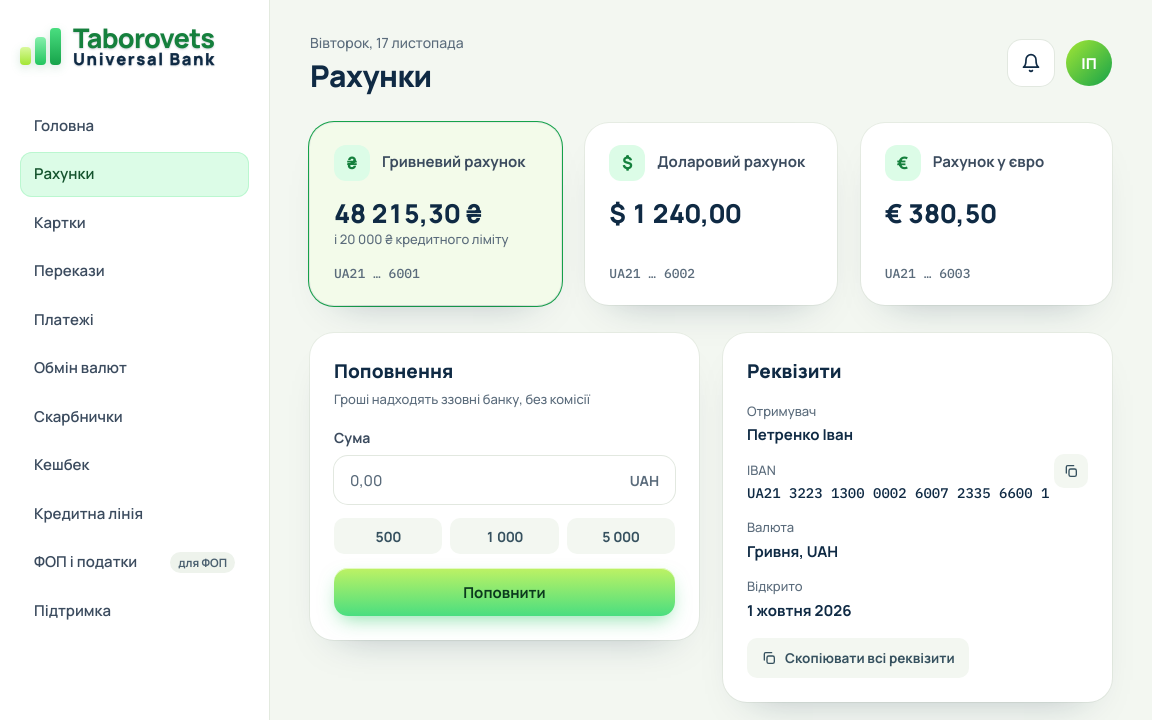
Test: AccountsPage › explains a wrong amount before asking the bank
In the field labelled "Сума": (504, 480) [334, 456, 675, 504], type "200000"
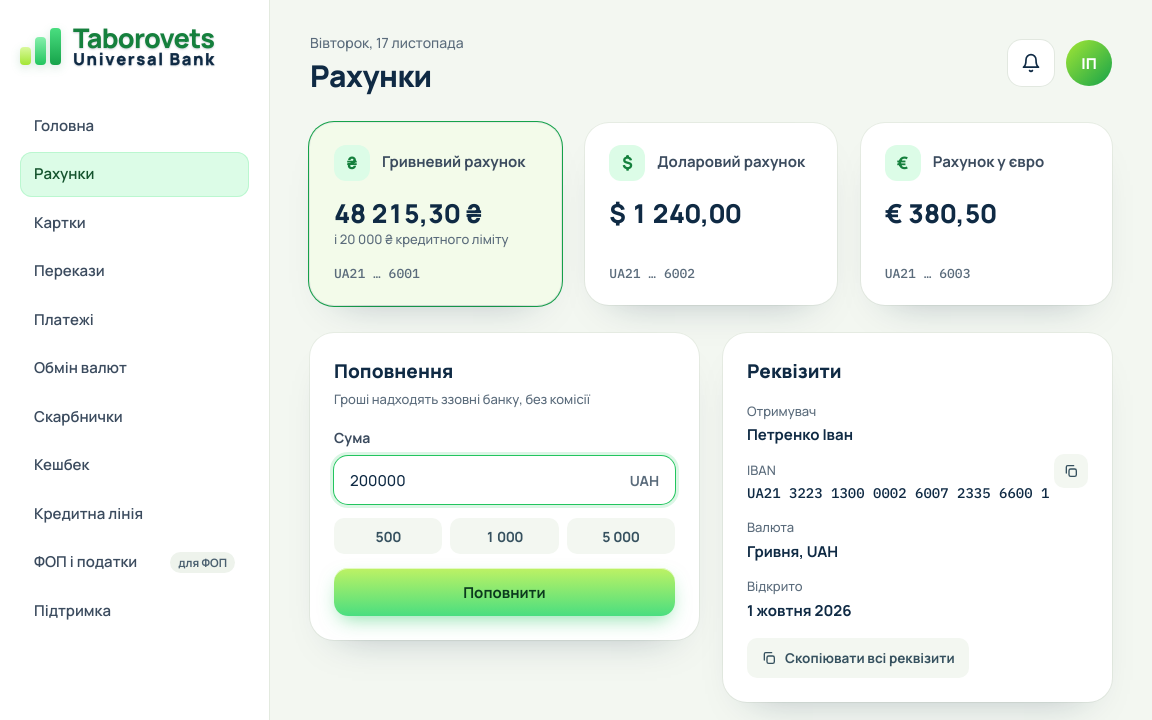
Click the button "Поповнити": (504, 592) [334, 568, 675, 616]
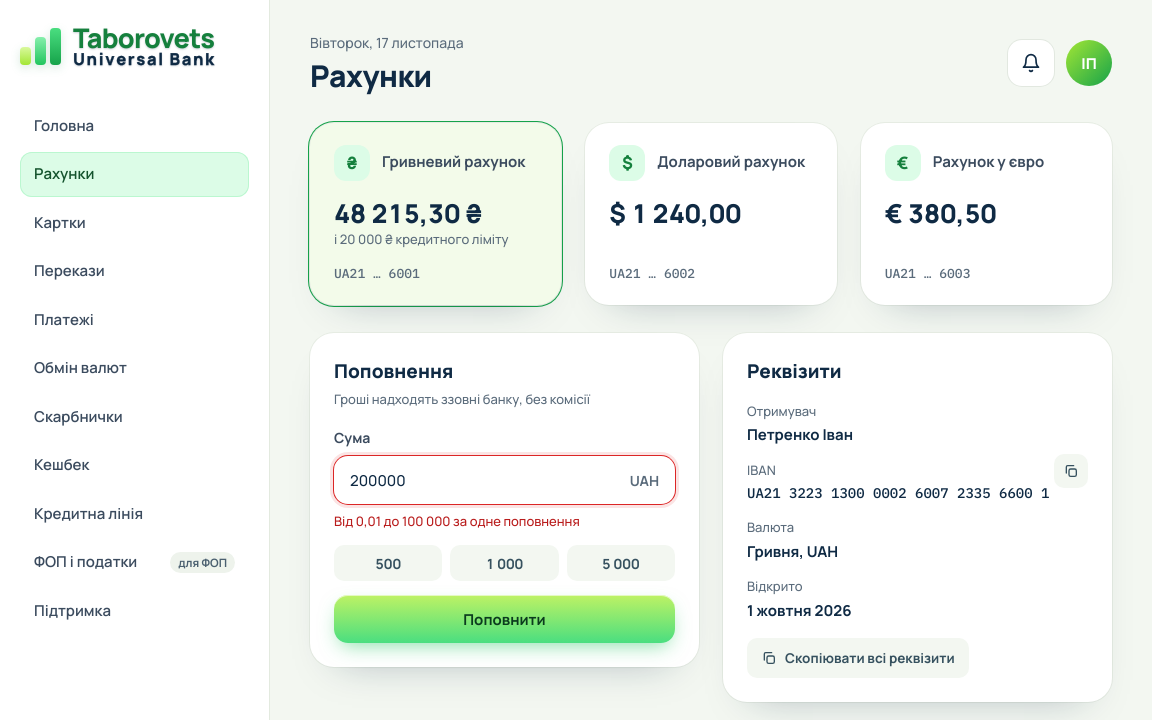
Result: the text "Від 0,01 до 100 000 за одне поповнення" is shown at [334, 512, 580, 530]
